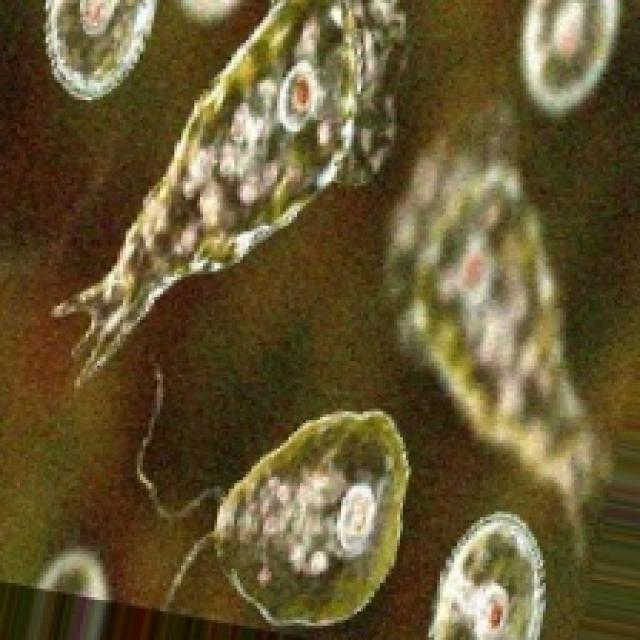Amoeba: (35, 0, 414, 406), (125, 408, 420, 640)
